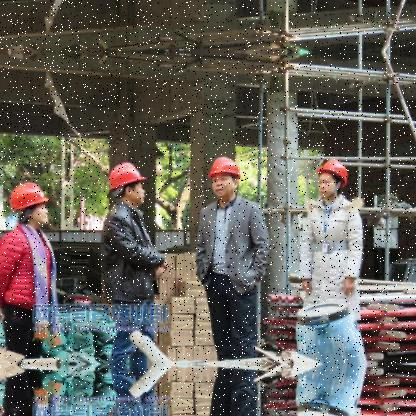helmet: (9, 179, 55, 228), (110, 158, 150, 210), (207, 152, 244, 200), (314, 156, 349, 198)
